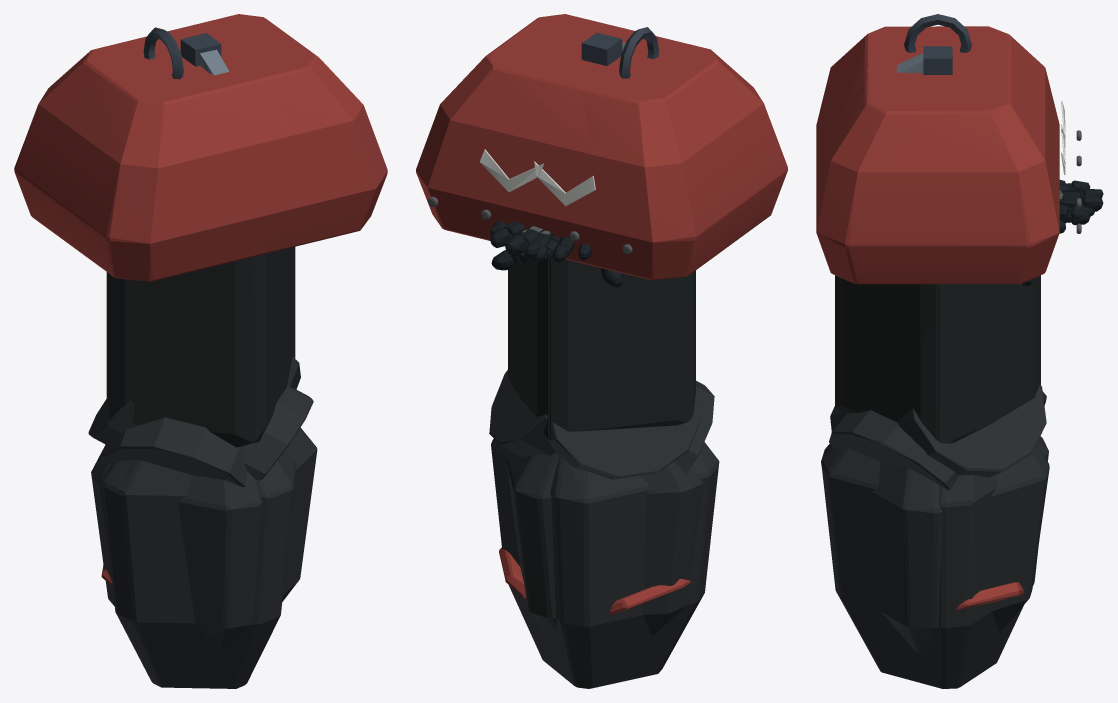
Rendered from arms.glb.
3 views of the same model, side by side, from view 1: azimuth 30°, elevation 25°; view 2: azimuth 150°, elevation 25°; view 3: azimuth 270°, elevation 25° (orthographic). The views are drawn at different scales.
Parts seen in each view (by area): view 1: pauldron_L, forearm_L, pauldron_R, upper_arm_R, forearm_R, upper_arm_L, grenade; view 2: pauldron_L, forearm_L, upper_arm_L, pauldron_R, forearm_R, upper_arm_R, grenade, anatomica_R, anatomica_L; view 3: pauldron_R, forearm_L, forearm_R, upper_arm_R, upper_arm_L, pauldron_L, grenade, anatomica_R, anatomica_L.
Part boxes in pixels (x1,y1,x2,y2): pauldron_L: (14, 27, 322, 281); forearm_L: (88, 387, 313, 688); pauldron_R: (141, 14, 387, 268); upper_arm_R: (110, 257, 255, 447); forearm_R: (91, 357, 317, 647); upper_arm_L: (106, 247, 295, 446); grenade: (143, 27, 229, 79); pauldron_L: (480, 27, 787, 280); forearm_L: (491, 388, 719, 688); upper_arm_L: (549, 257, 692, 440); pauldron_R: (416, 14, 661, 267); forearm_R: (489, 370, 714, 641); upper_arm_R: (508, 258, 695, 440); grenade: (581, 27, 658, 78); anatomica_R: (490, 221, 623, 287); anatomica_L: (491, 229, 591, 270); pauldron_R: (816, 52, 1081, 284); forearm_L: (821, 391, 1048, 688); forearm_R: (821, 385, 1049, 652); upper_arm_R: (938, 275, 1040, 443); upper_arm_L: (835, 275, 938, 440); pauldron_L: (816, 26, 1081, 208); grenade: (896, 14, 971, 74); anatomica_R: (1059, 191, 1103, 233); anatomica_L: (1021, 180, 1103, 286).
Size of the model in its own units: 0.363 by 0.8007 by 0.329.
